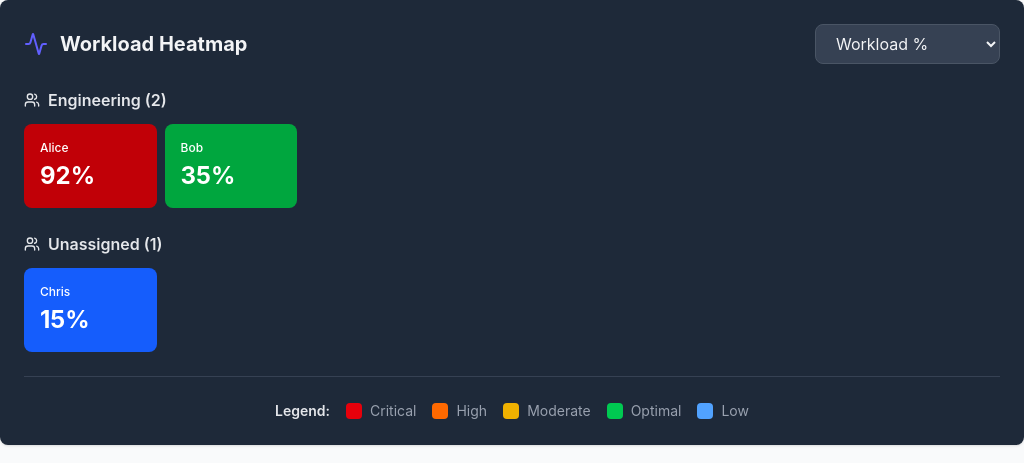
WorkloadHeatmap dedicated › switches metric selector to completed tasks and shows legend
The image size is (1024, 463).
Select "Completed Tasks" in the dropdown showing "Workload %" at (908, 44), box [815,24,1000,64]
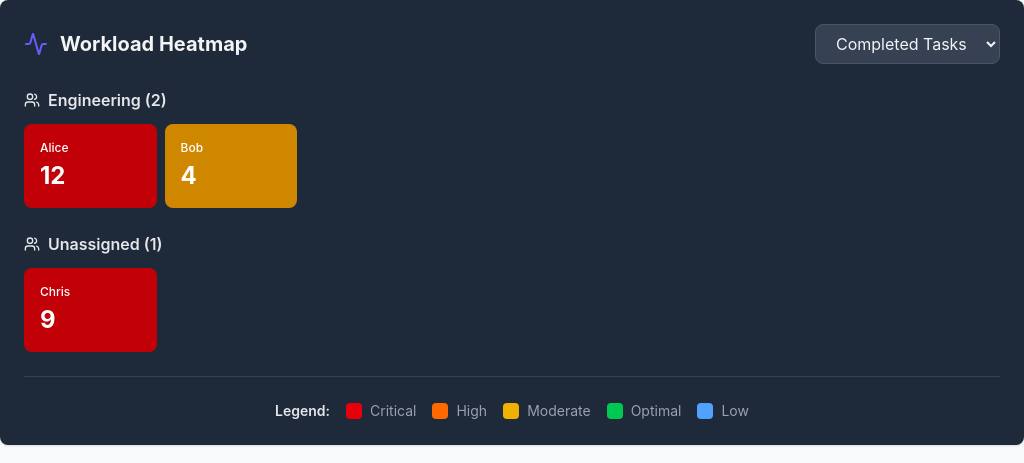
Expected: the text "Legend:" is shown, [275,401,330,421]
Now the text "12" is shown, box [40,161,66,190]
